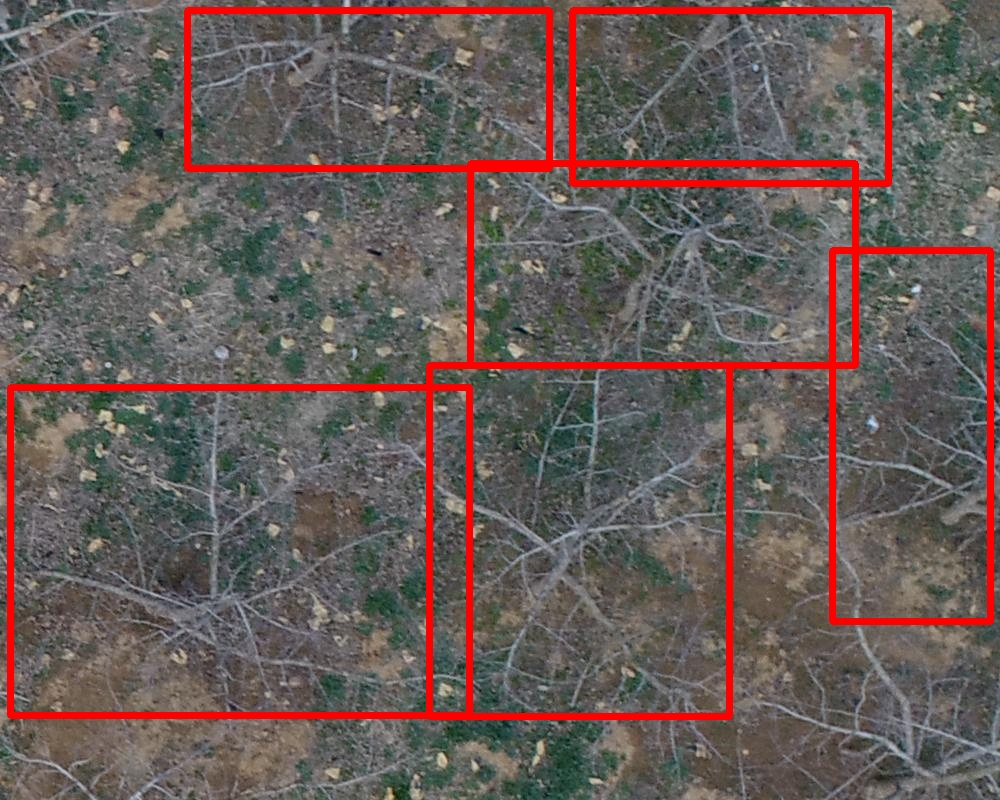apple: (10, 387, 469, 715), (429, 365, 729, 716), (470, 163, 855, 365), (832, 250, 990, 621), (187, 10, 549, 168), (572, 10, 888, 183)
